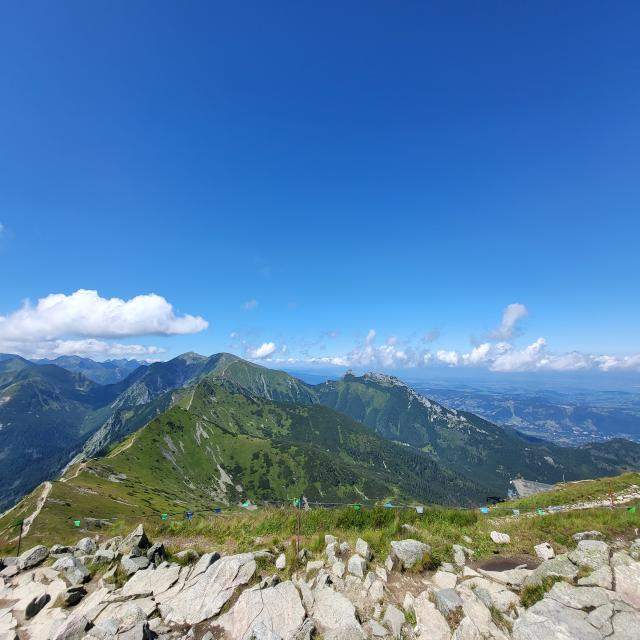Giewont: (322, 346, 381, 405)
Kopa Kondracka: (212, 342, 266, 384)
Krzesanica: (165, 326, 223, 382)
Malolaczniak: (202, 335, 248, 379)
Polska Tomanova: (0, 347, 66, 411)
